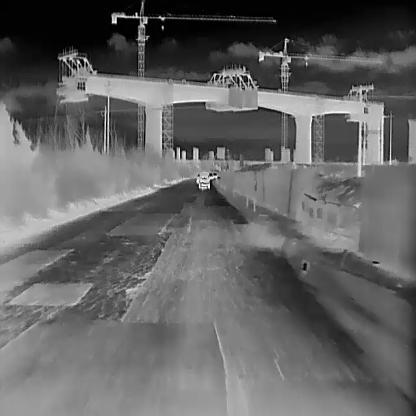car: (197, 172, 210, 189), (209, 171, 213, 178), (214, 172, 217, 177)
